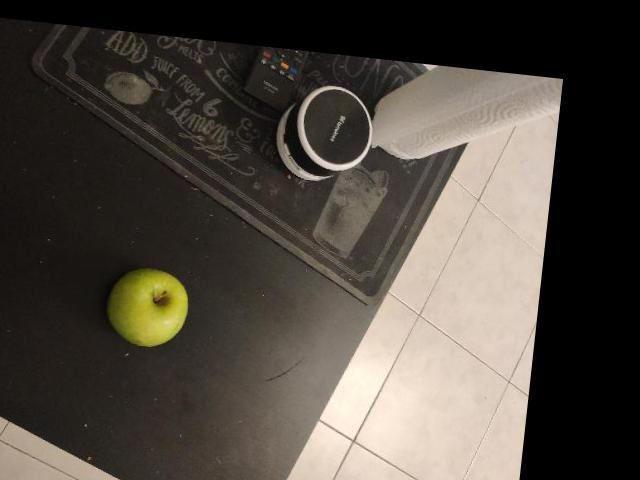apple: (76, 258, 202, 359)
